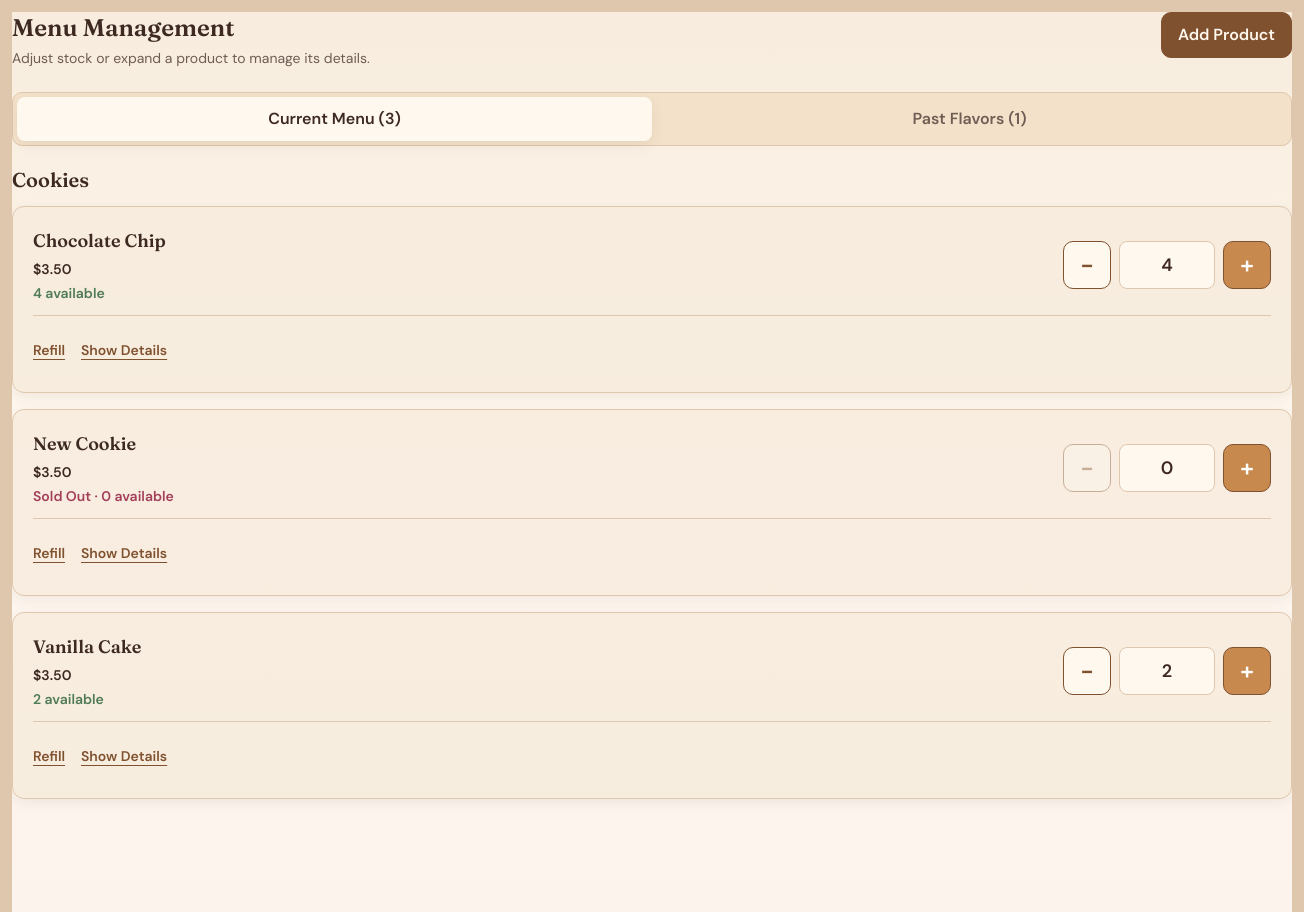
Test: Menu Management stock editor › resynchronizes and shows a row error after an adjustment failure
Expected: the heading "Menu Management" is shown, [12,13,234,42]
Click the button named "Add one Chocolate Chip" at (1247, 265), box [1223,241,1271,289]
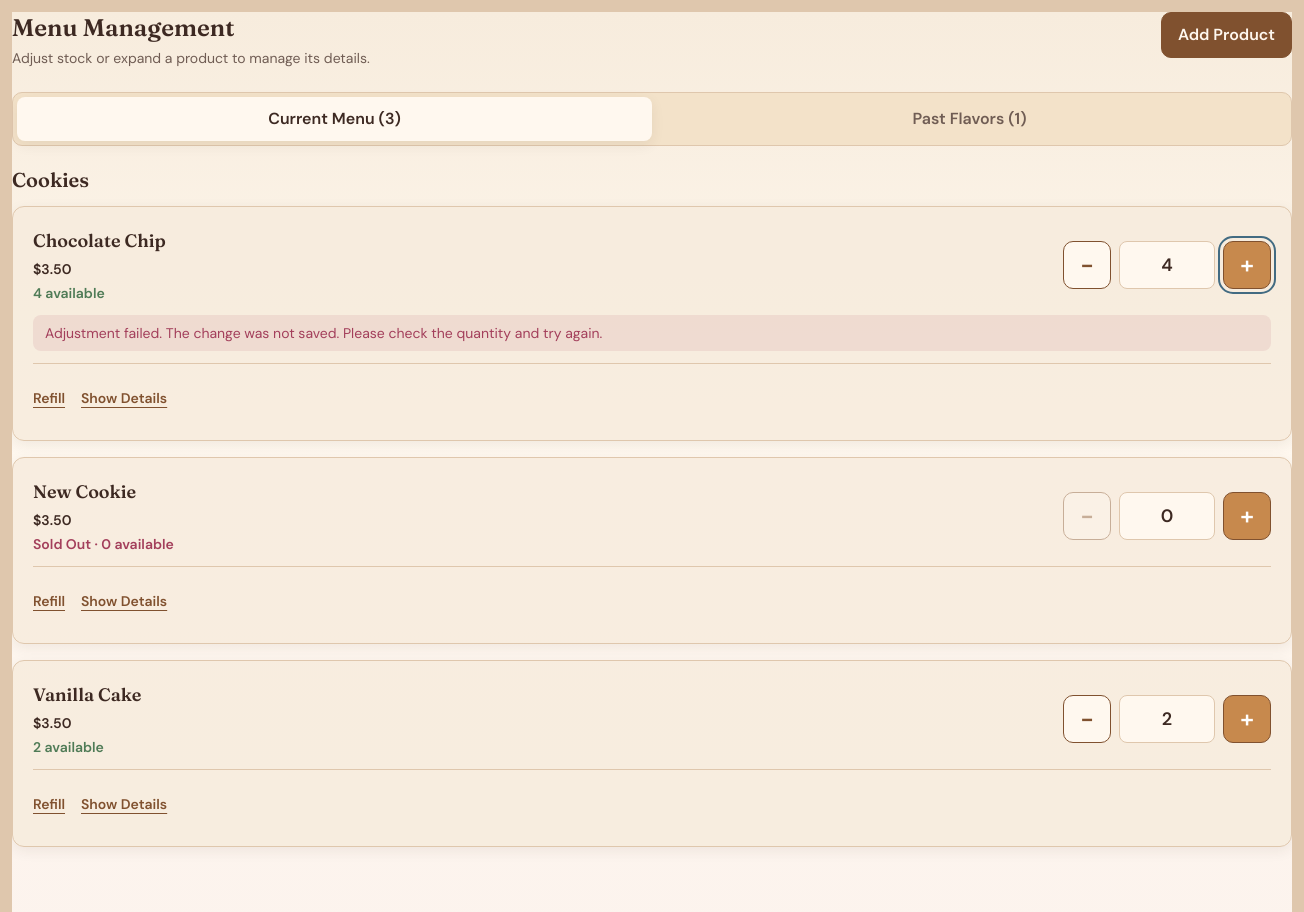
Expected: the field named "Chocolate Chip quantity" holds "4", [1119,241,1215,289]
Now the message shows "Adjustment failed", box [45,324,602,342]
